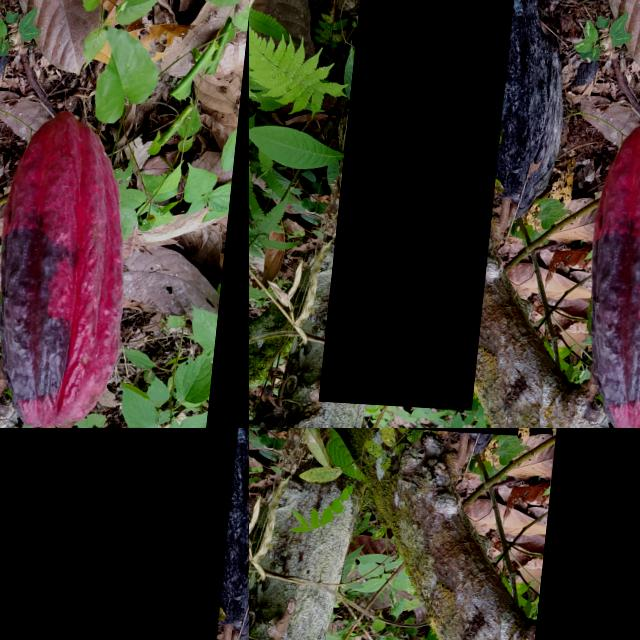Fitoftora: (329, 0, 518, 406), (0, 428, 248, 640), (543, 428, 640, 640)
